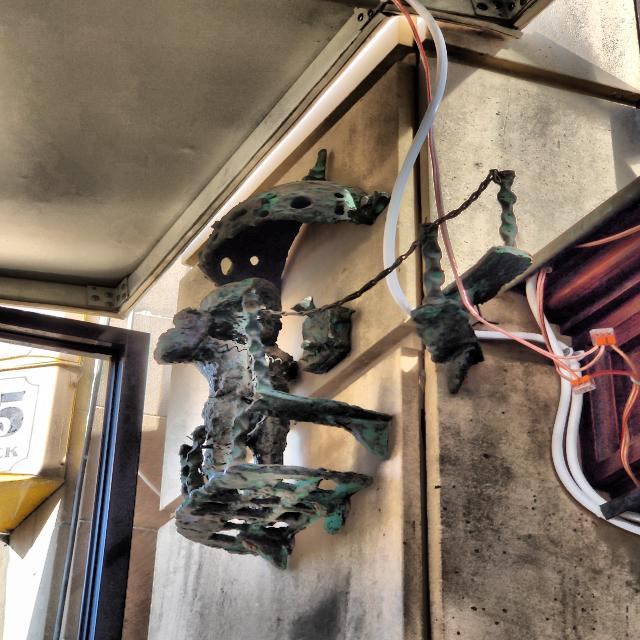Dryndek: (155, 150, 392, 569)
